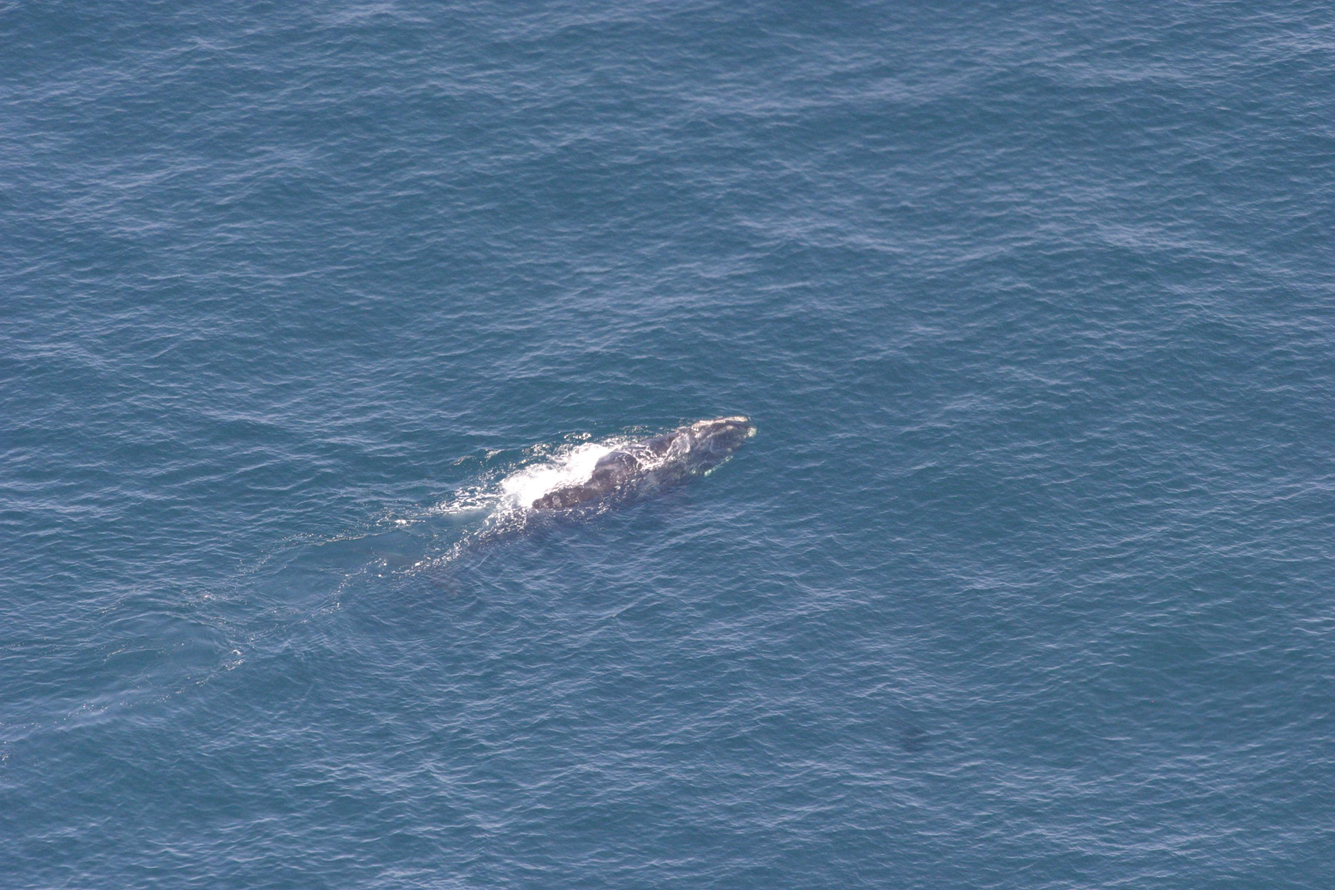whale: (349, 410, 764, 628)
